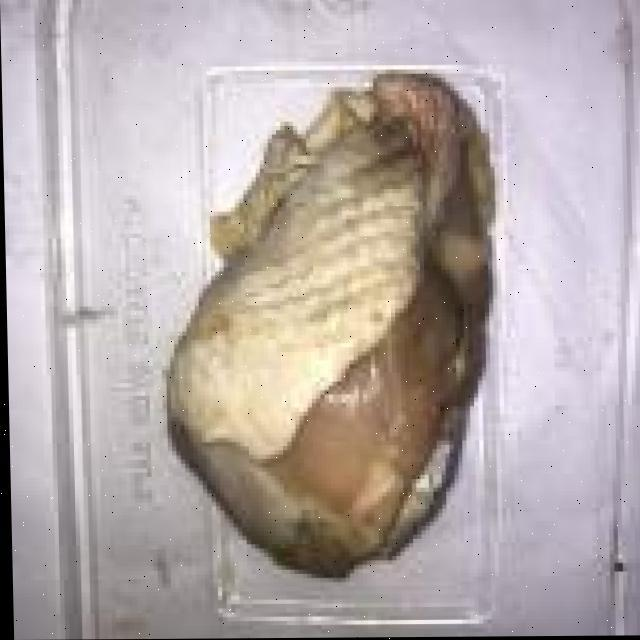breast: (162, 64, 504, 592)
